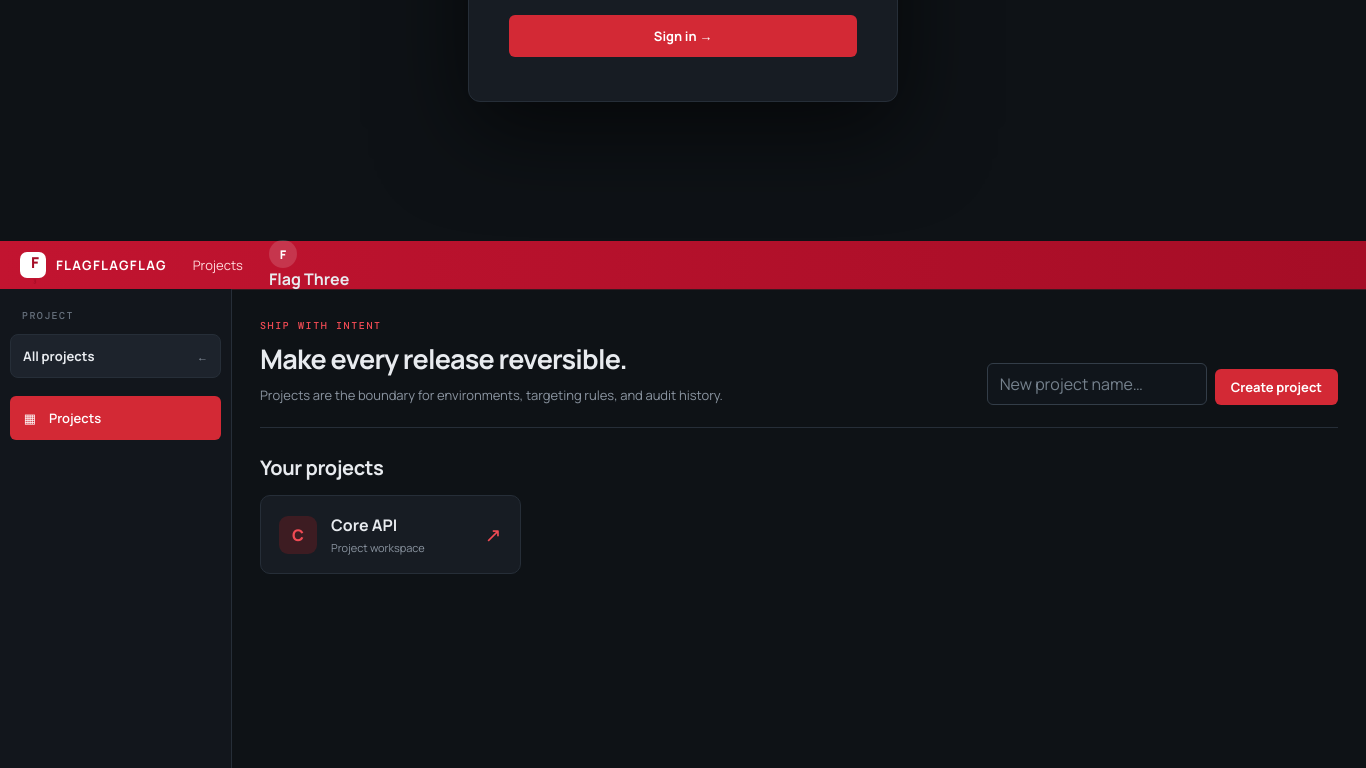
Scenario: admin control plane › lists projects, creates one, and preserves the session when logout fails
(page scrolled)
Expected: the text "Core API" is shown, [331,514,397,536]
Type "Web app" into the field labelled "New project name" at (1097, 384), box [987,363,1207,405]
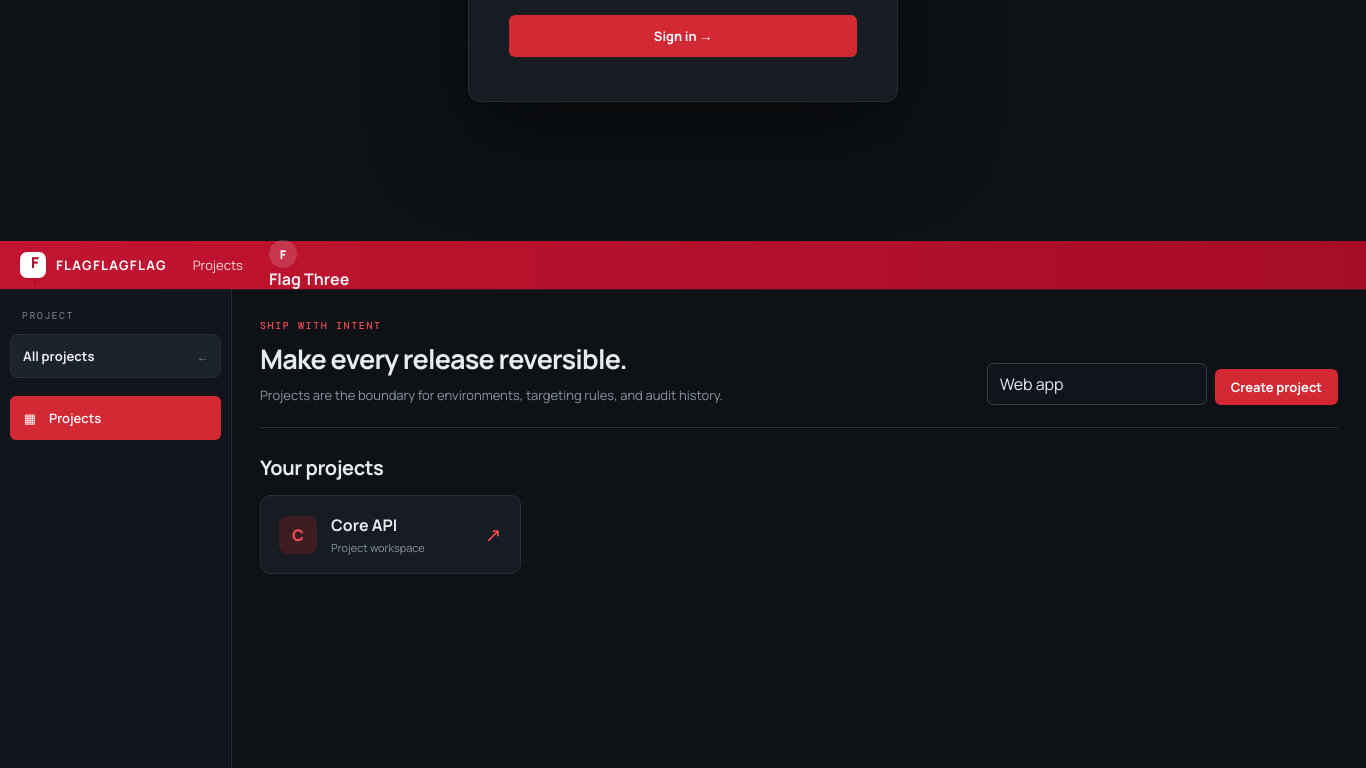
Click the button "Create project" at (1276, 387), box [1215,369,1338,405]
(page scrolled)
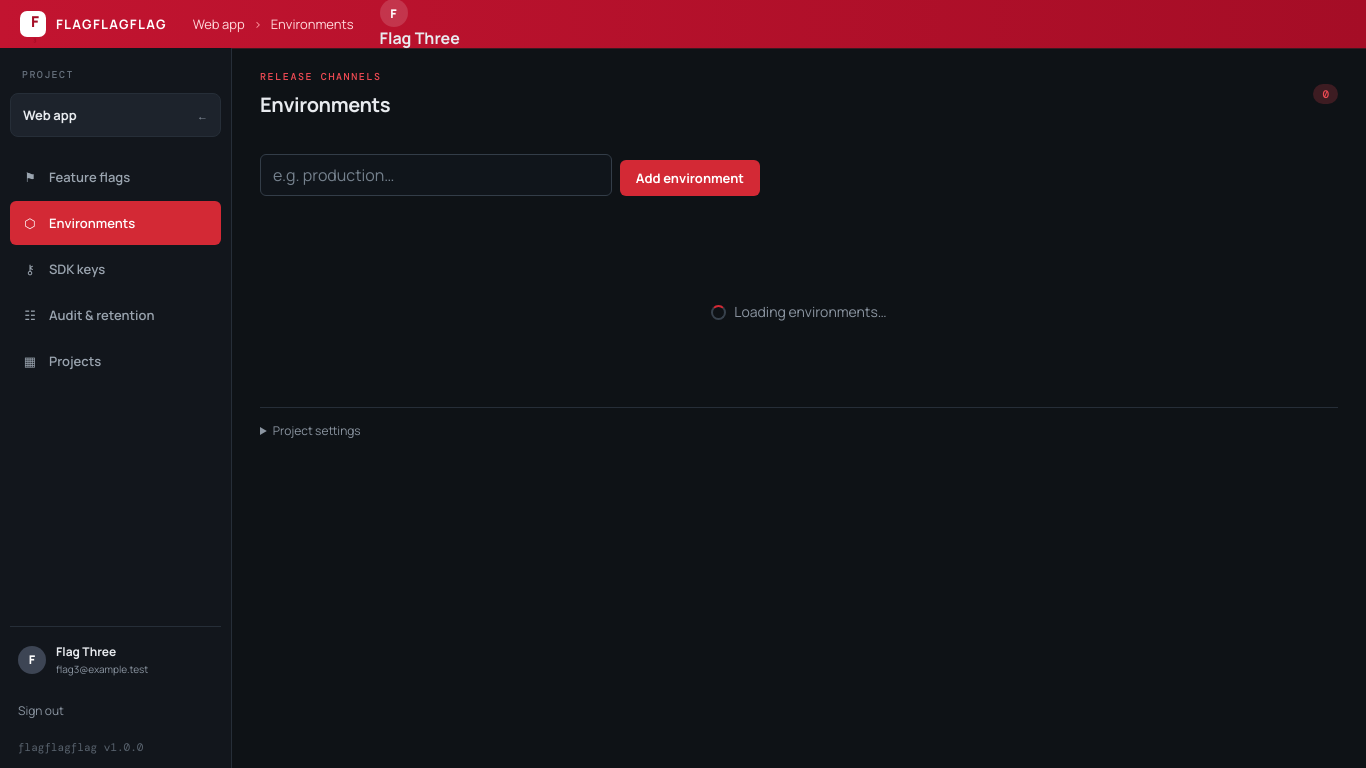
Expected: the button "Web app ←" is shown, [10,93,221,137]
Click the button "Sign out" at (116, 710), box [10,688,221,732]
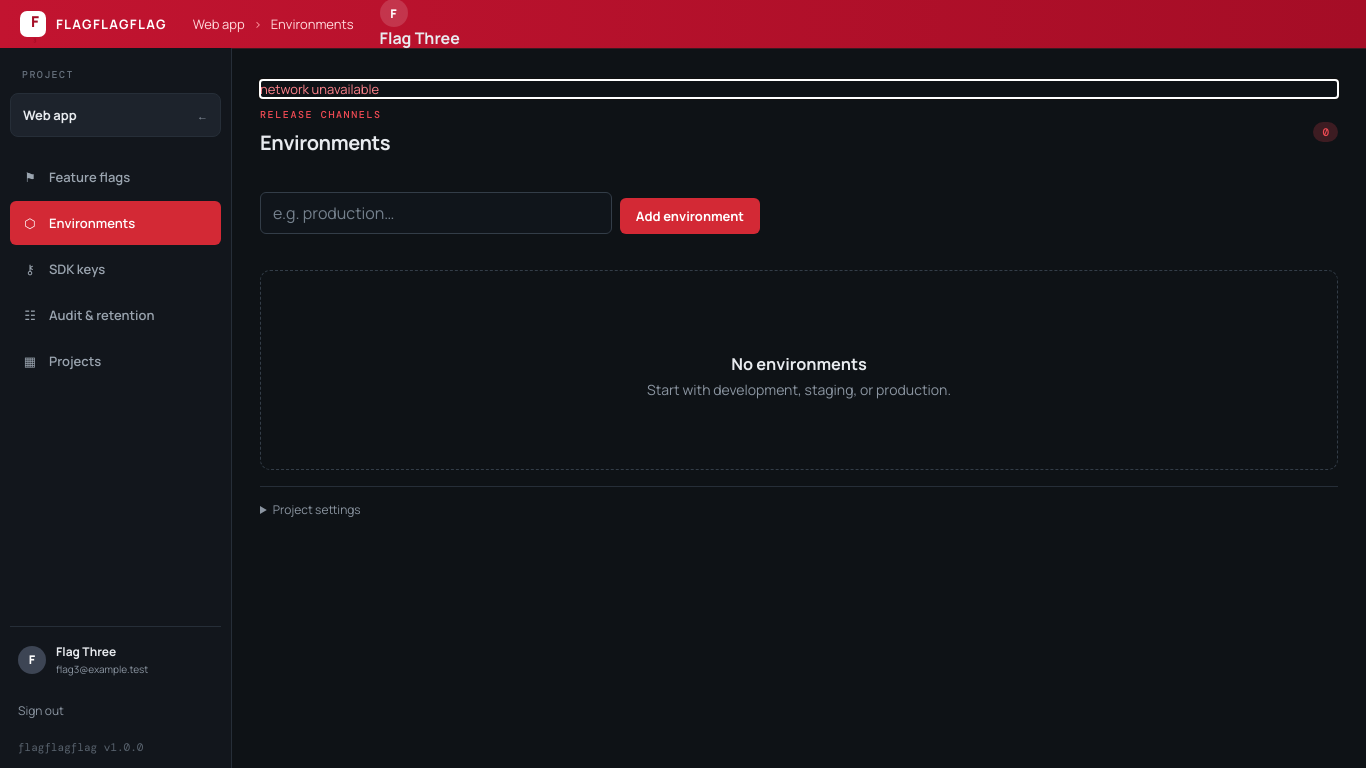
Expected: the button "Web app ←" is shown, [10,93,221,137]
Expected: the message reads "network unavailable", [260,80,379,98]
